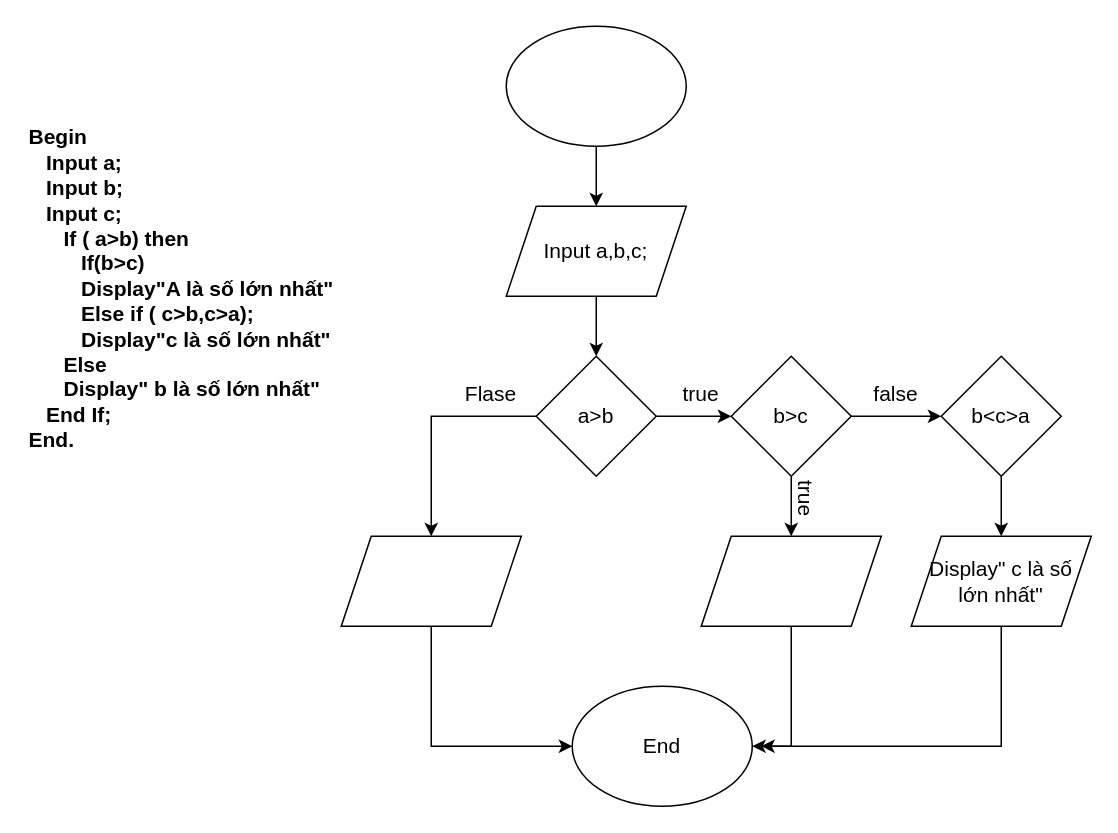
This 1118x833 diagram has some shape labels left out. Each missing label, with the centre of its shape:
Begin: pixel 595 85
Display" b là số lớn nhất": pixel 430 580
Display"a là số lớn nhất": pixel 790 580
